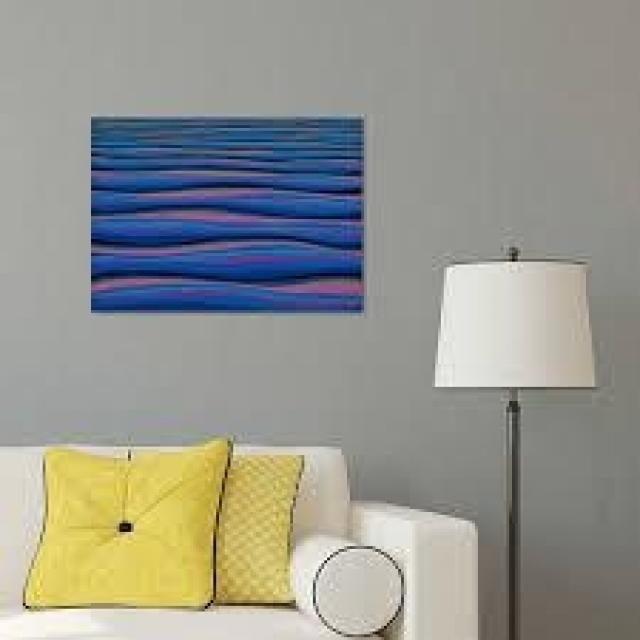painting: (88, 114, 363, 313)
